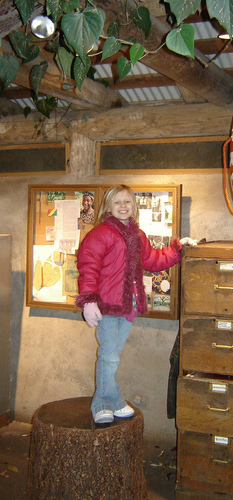without_mask: (106, 186, 136, 220), (79, 192, 96, 211)
